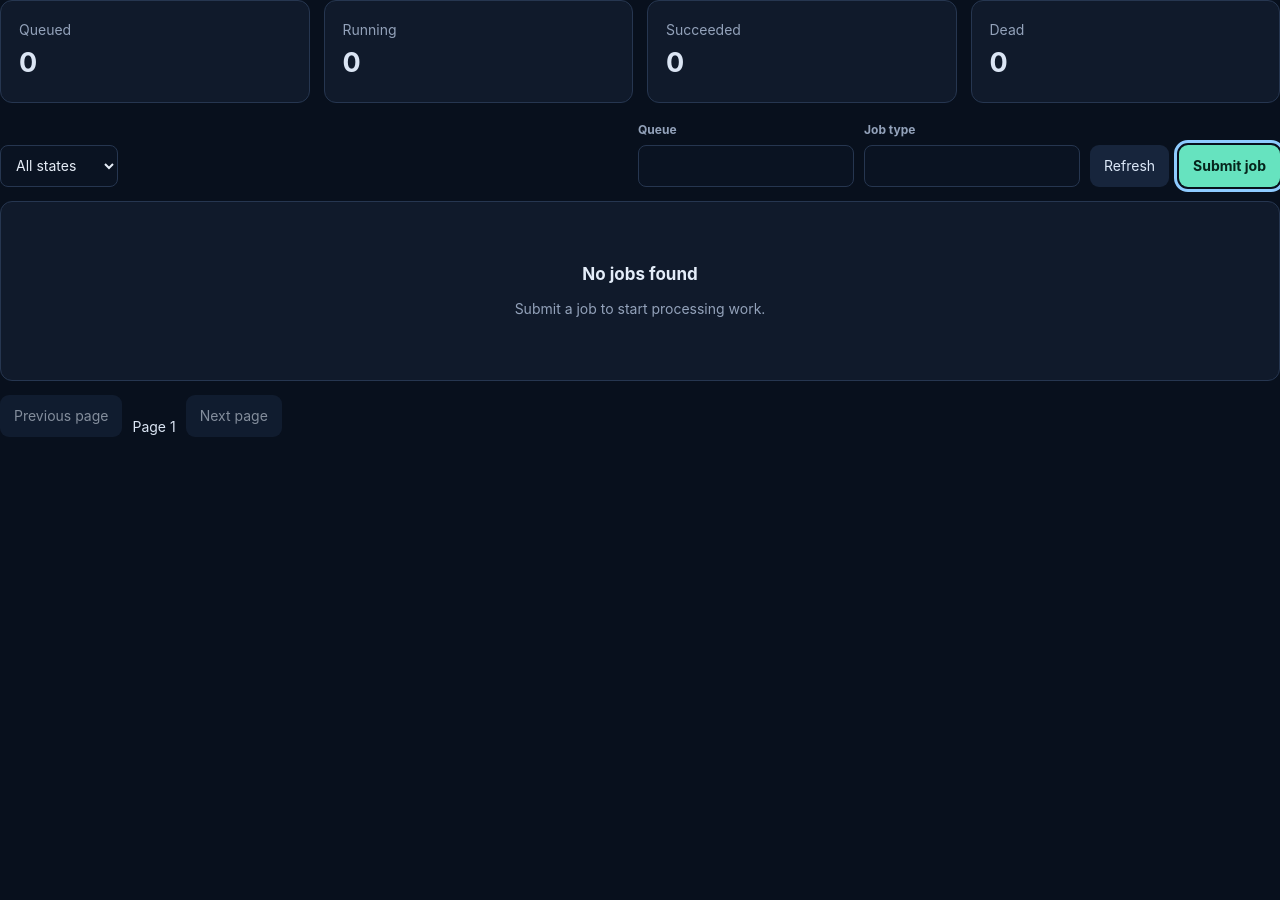
Scenario: Jobs › validates malformed submission JSON before sending a request
Expected: the text "No jobs found" is shown, x1=582 y1=262 x2=698 y2=288
Press Enter
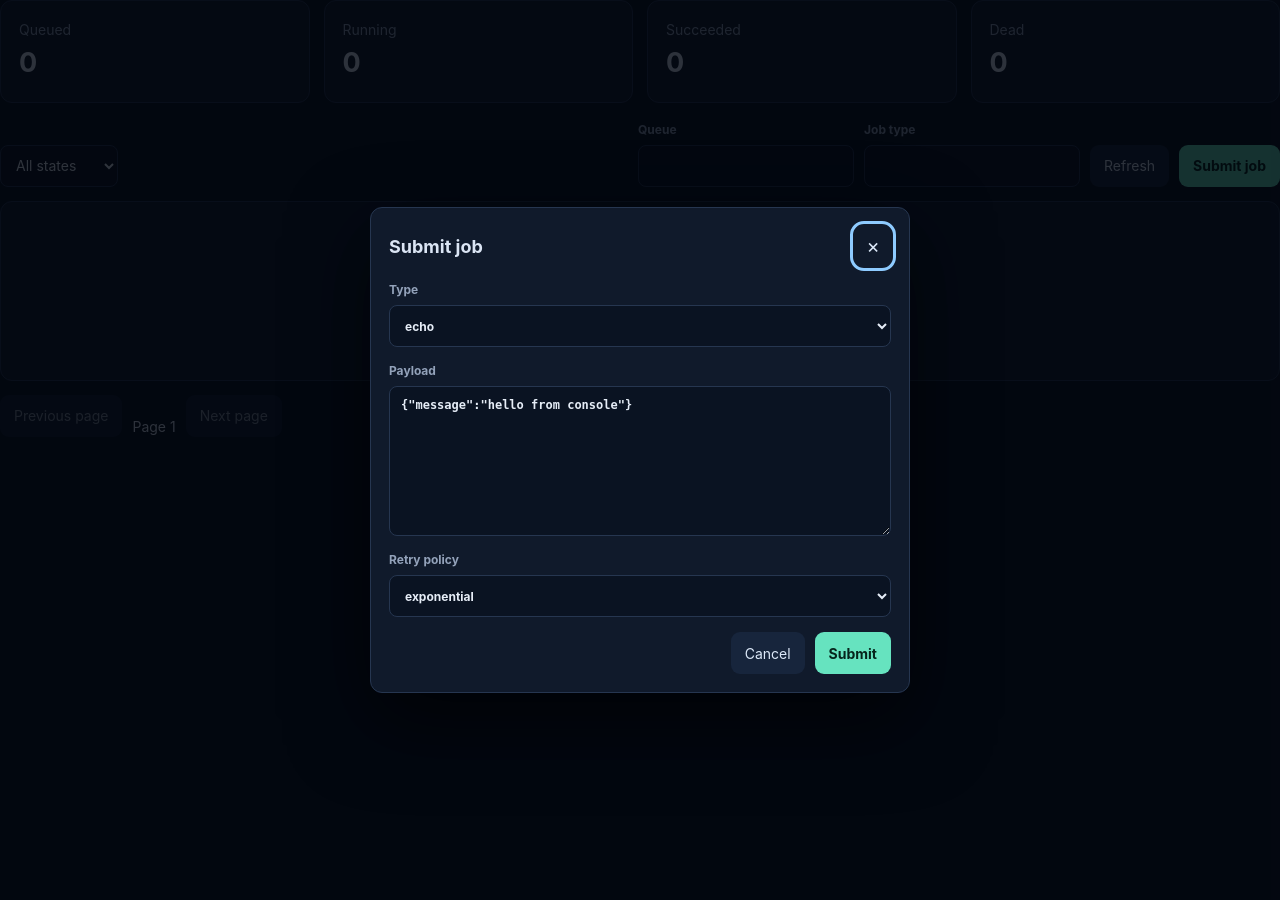
Replace the text in the text box labelled "Payload" with "not-json" at [640, 461], box x1=389 y1=386 x2=891 y2=536
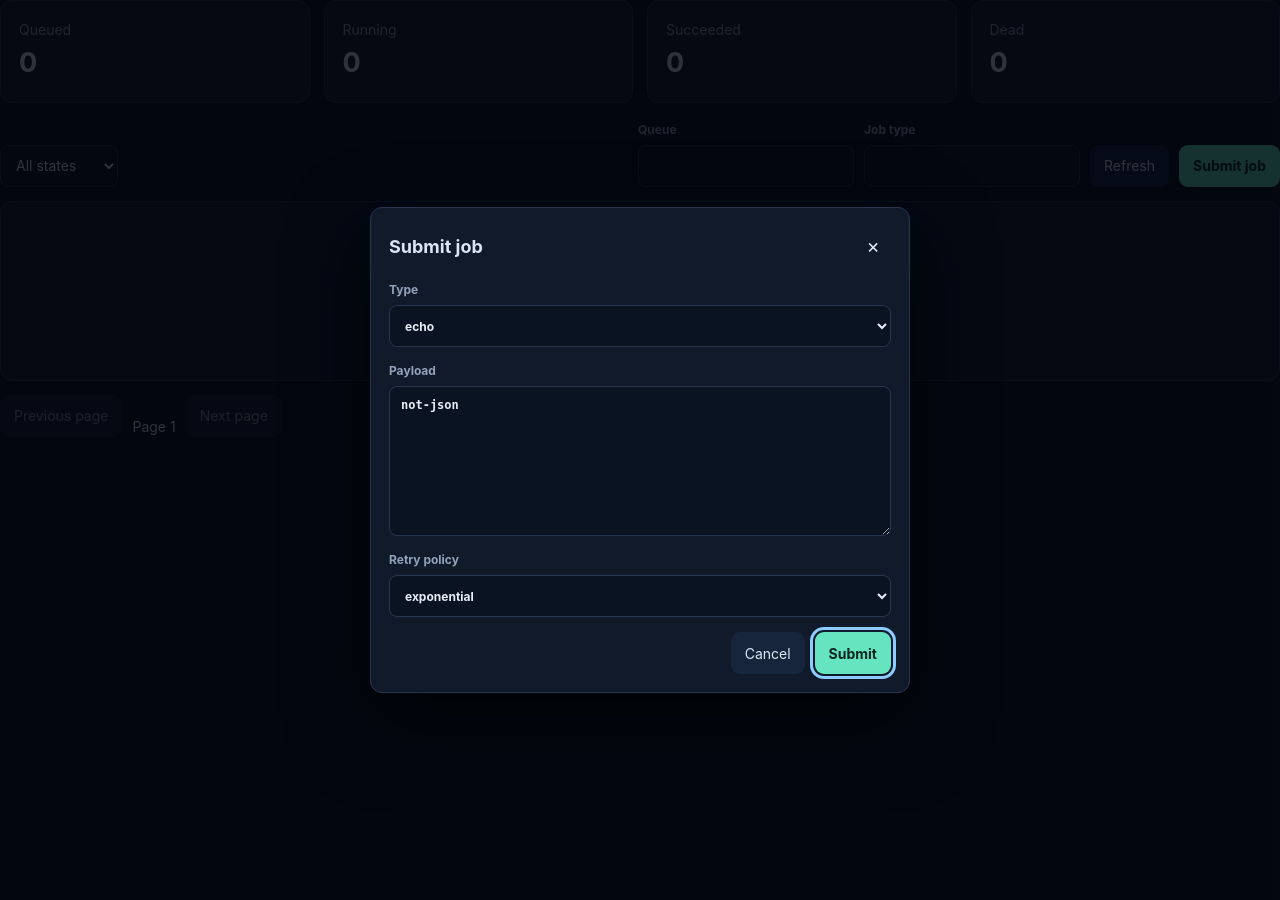
Press Enter
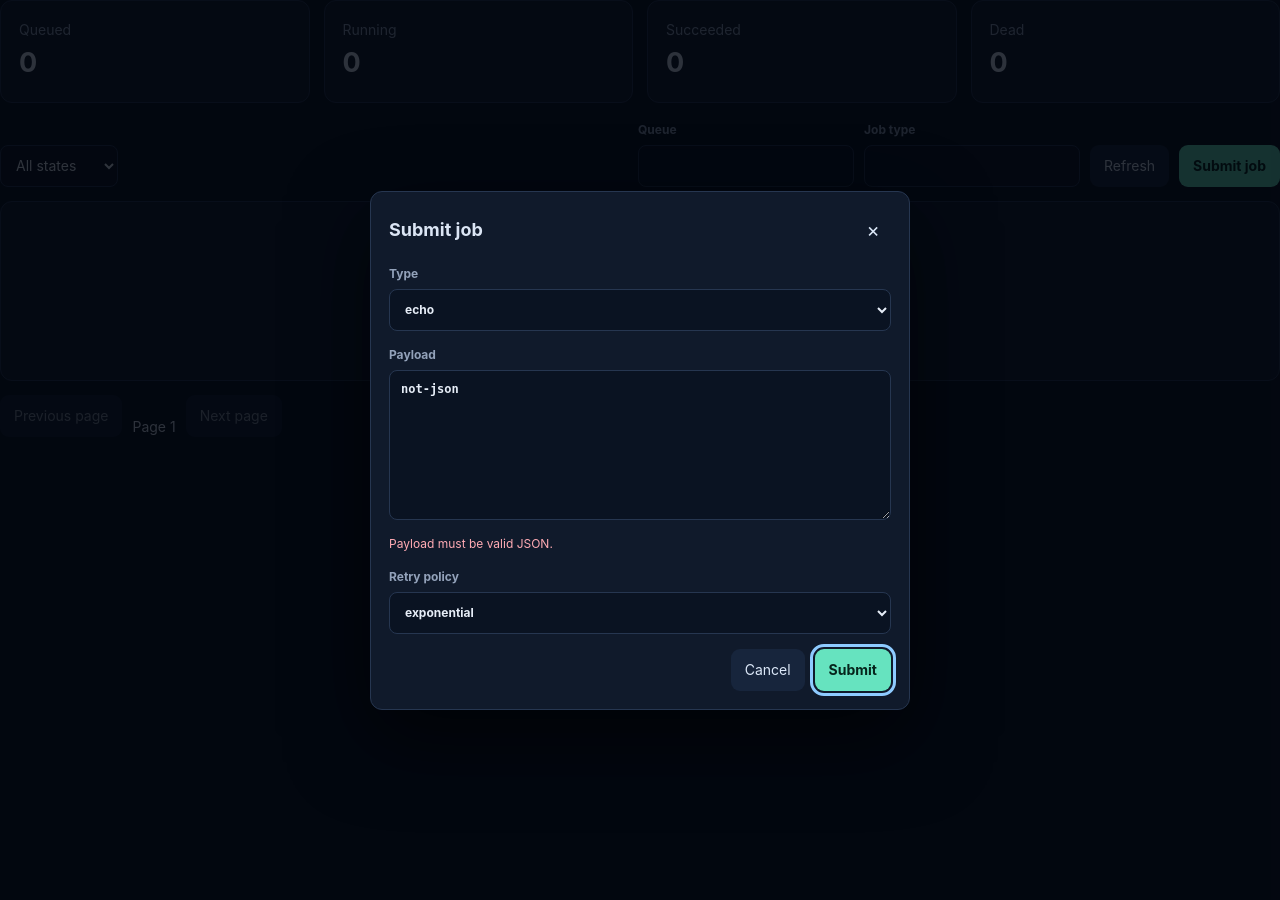
Expected: the message reads "Payload must be valid JSON.", x1=389 y1=536 x2=553 y2=550
